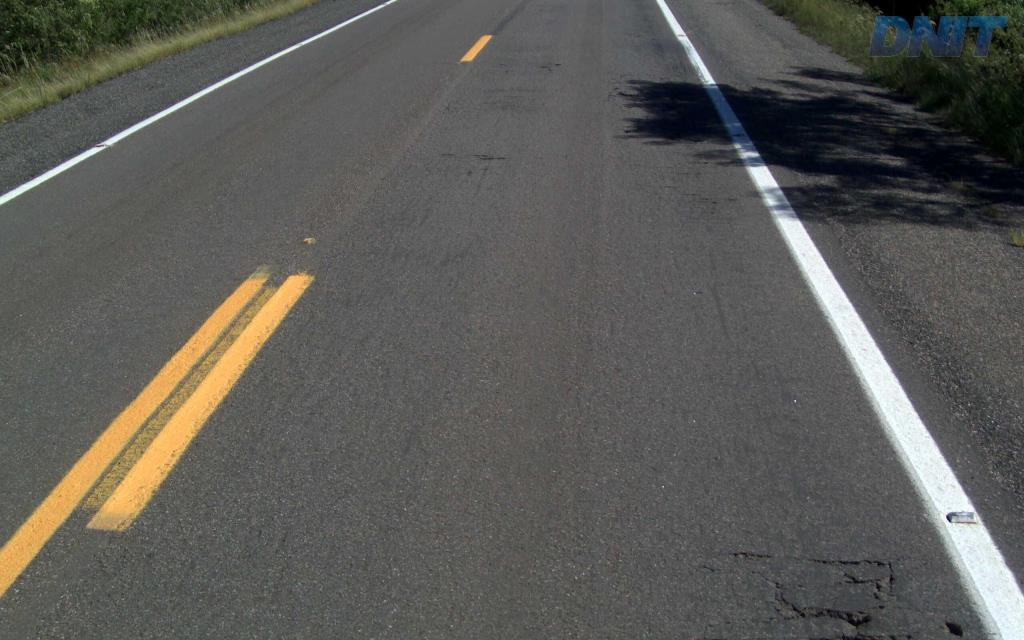crack: (772, 580, 881, 632)
